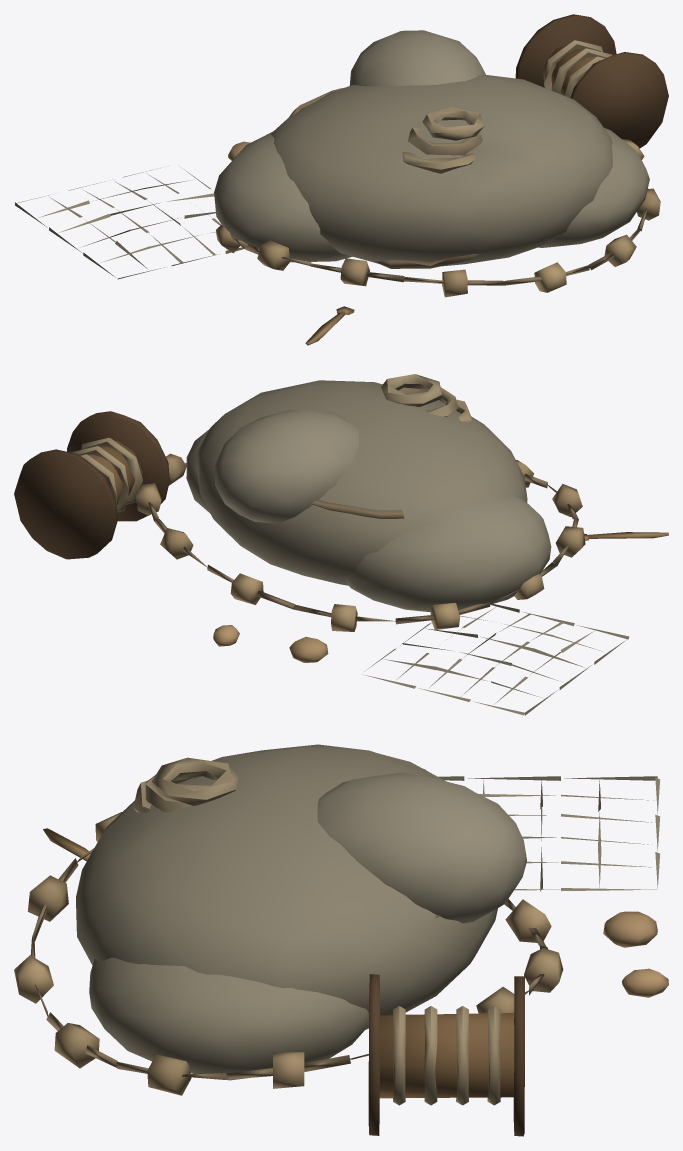
The model's file is net_hoard_a_lod2.glb.
The picture shows the model from 3 angles, top to bottom: view 1: azimuth 30°, elevation 25°; view 2: azimuth 150°, elevation 25°; view 3: azimuth 270°, elevation 25°; orthographic projection. The views are drawn at different scales.
Parts seen in each view (by area): view 1: Surface.001; view 2: Surface.001; view 3: Surface.001.
Boxes of the visible parts, x1=… form: Surface.001: x1=15, y1=14, x2=668, y2=345; Surface.001: x1=14, y1=374, x2=668, y2=715; Surface.001: x1=14, y1=744, x2=668, y2=1136.
Bounding box in the file's own units: 6.82 × 1.94 × 4.97.
